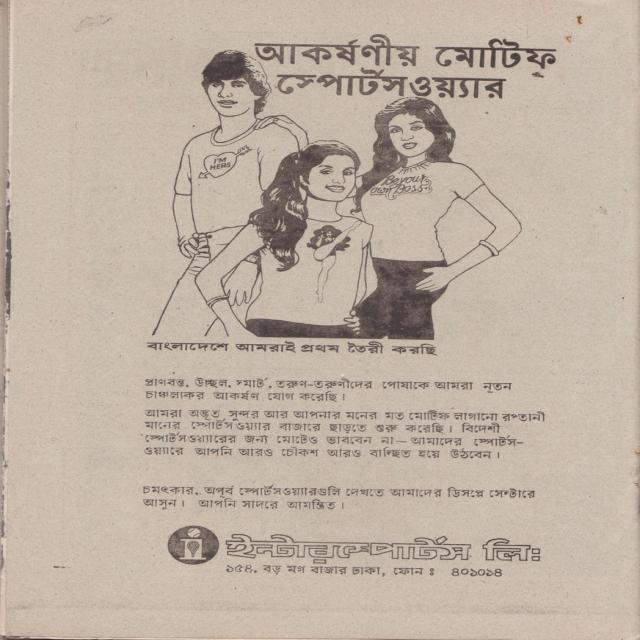advertisement: (83, 15, 590, 596)
